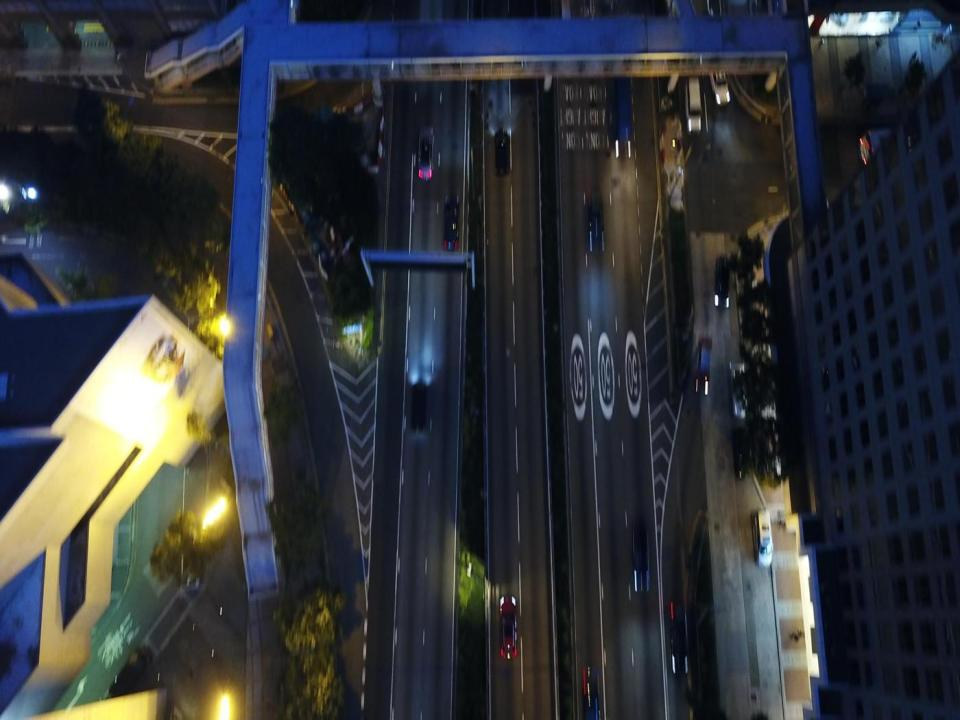bus: (604, 58, 634, 157)
car: (666, 600, 690, 676), (584, 192, 606, 253), (498, 595, 518, 659), (632, 524, 650, 593), (730, 363, 752, 418), (731, 429, 753, 480), (694, 334, 712, 394), (580, 667, 598, 719), (409, 383, 428, 431), (444, 196, 460, 250), (493, 130, 511, 176), (418, 132, 434, 180)
van: (857, 129, 916, 167), (709, 48, 732, 109), (684, 78, 704, 132), (754, 510, 772, 566), (713, 254, 730, 309)
